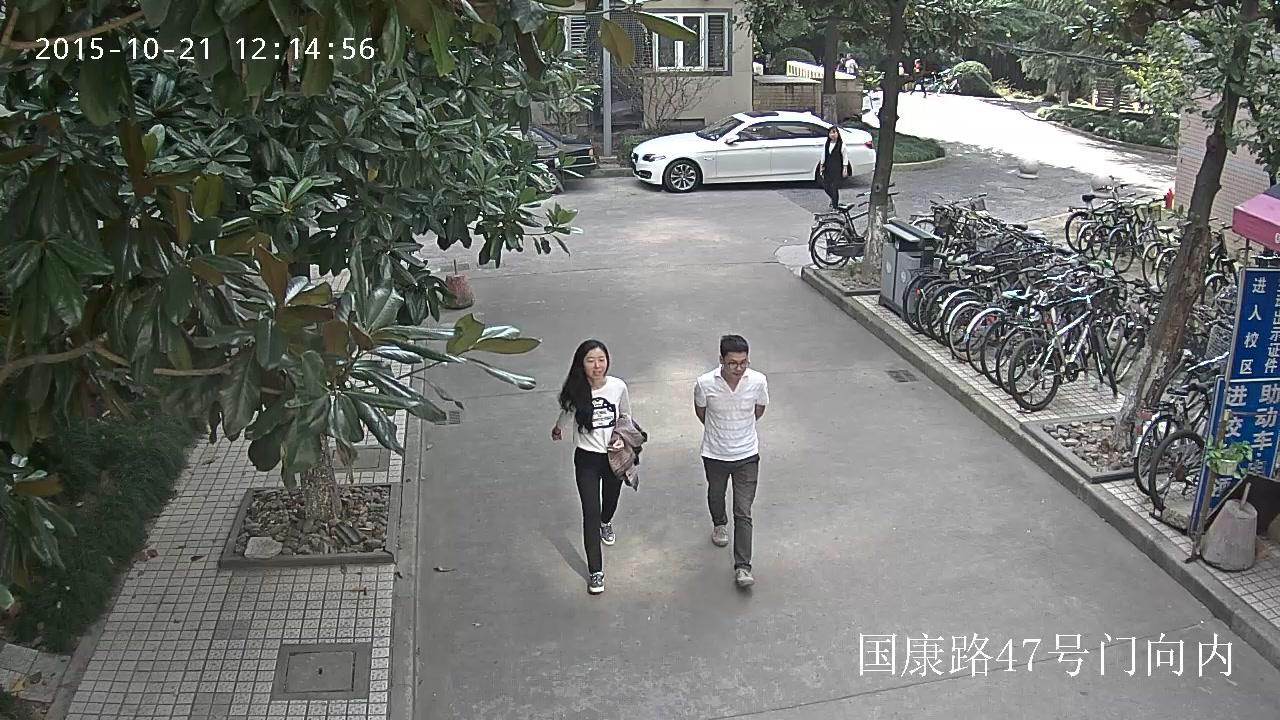face: (584, 347, 607, 380), (724, 351, 747, 380), (828, 129, 837, 139), (916, 61, 919, 66), (846, 54, 849, 58)
